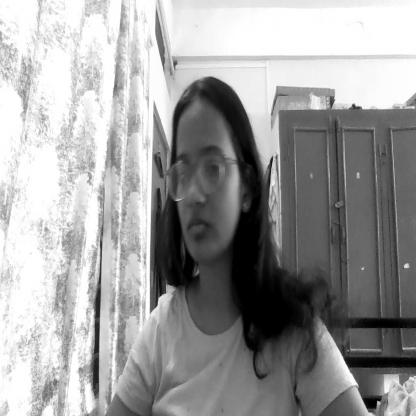Normal: (170, 93, 252, 280)
